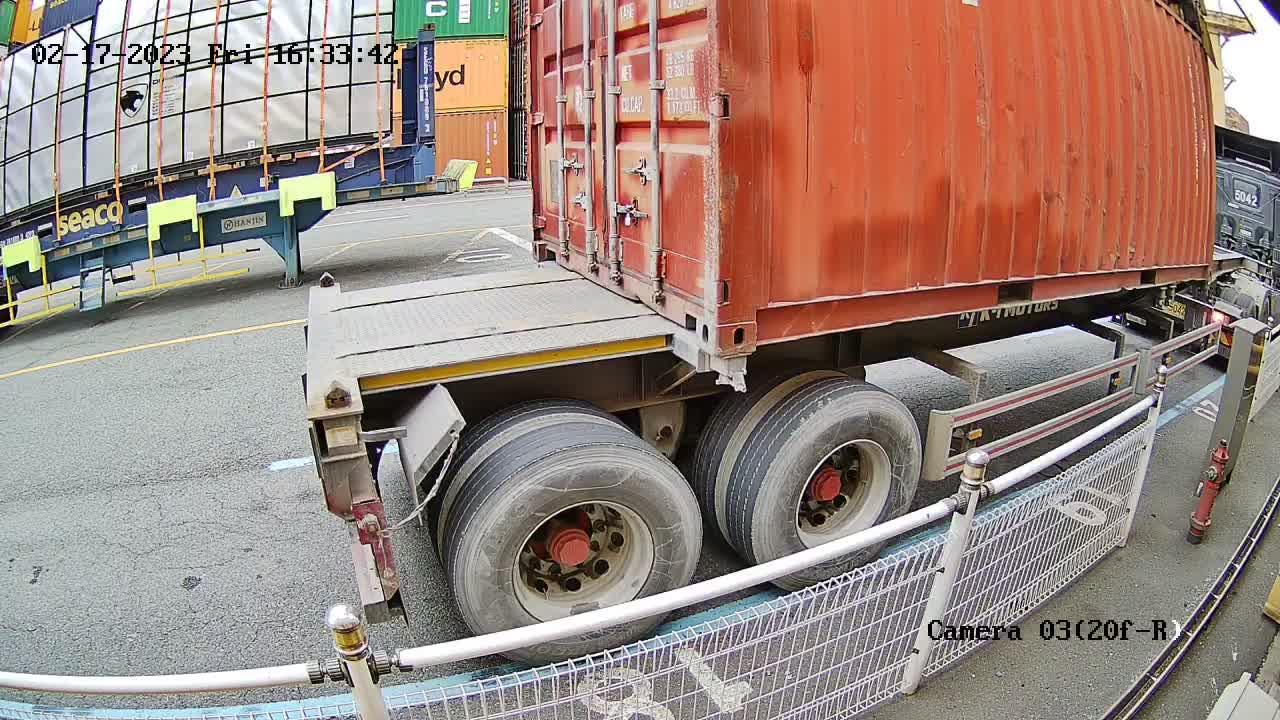Chassis: (531, 261, 711, 375)
Cone: (705, 354, 753, 394)
Hole_L: (718, 269, 792, 356), (531, 217, 562, 265)
Hole_R: (675, 266, 722, 352)
Tire: (457, 447, 700, 664), (749, 393, 922, 590)
